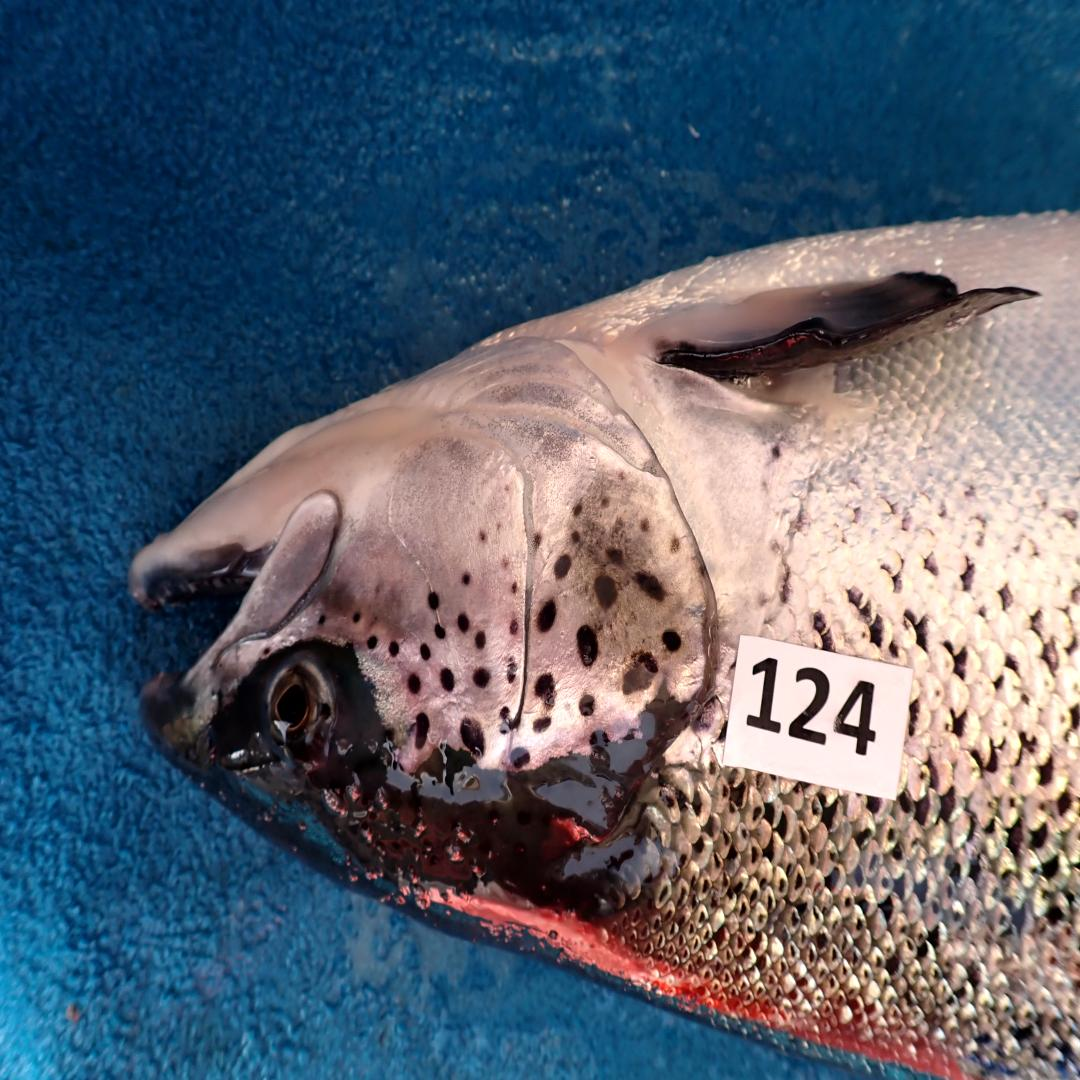roi: (339, 331, 716, 770)
